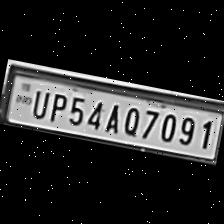0: (155, 108, 180, 144)
1: (193, 116, 216, 150)
4: (83, 94, 106, 128)
5: (64, 92, 89, 126)
7: (136, 104, 159, 140)
9: (174, 110, 198, 146)
A: (100, 99, 124, 134)
P: (44, 88, 68, 122)
Q: (118, 102, 144, 136)
U: (28, 84, 52, 119)
